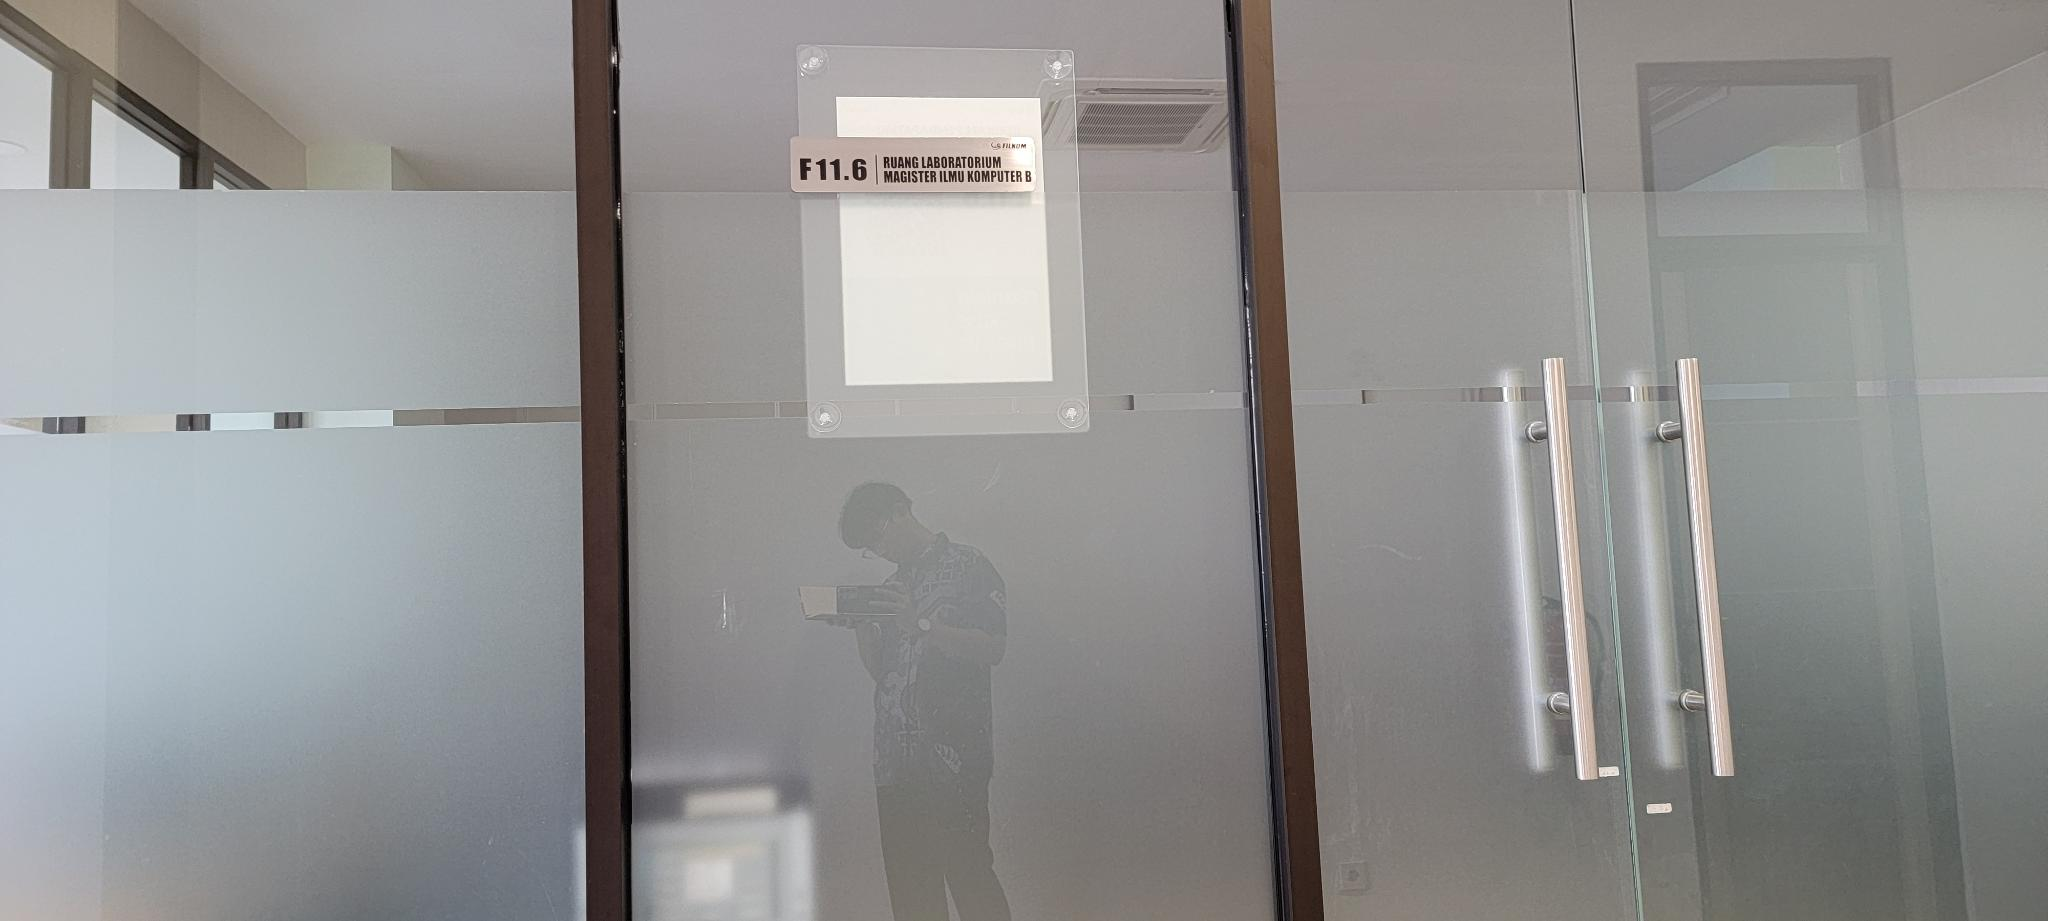plate: (789, 137, 1040, 195)
